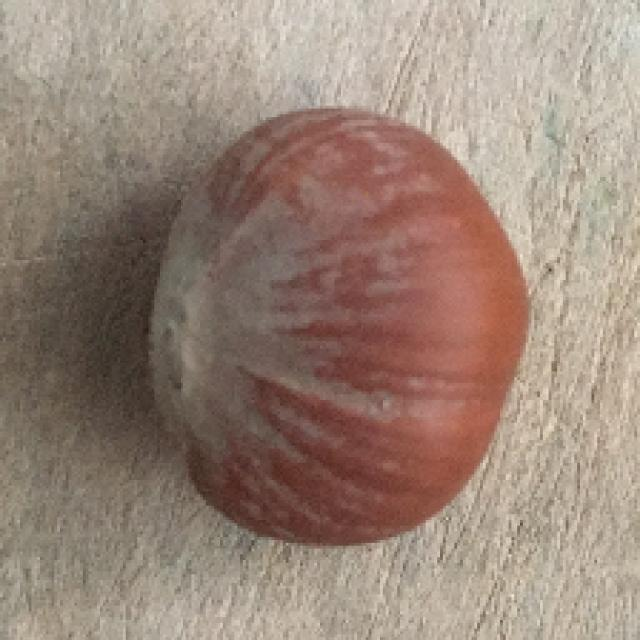QualityHazelnut: (153, 109, 533, 544)
